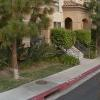Tree: (5, 0, 100, 47)
